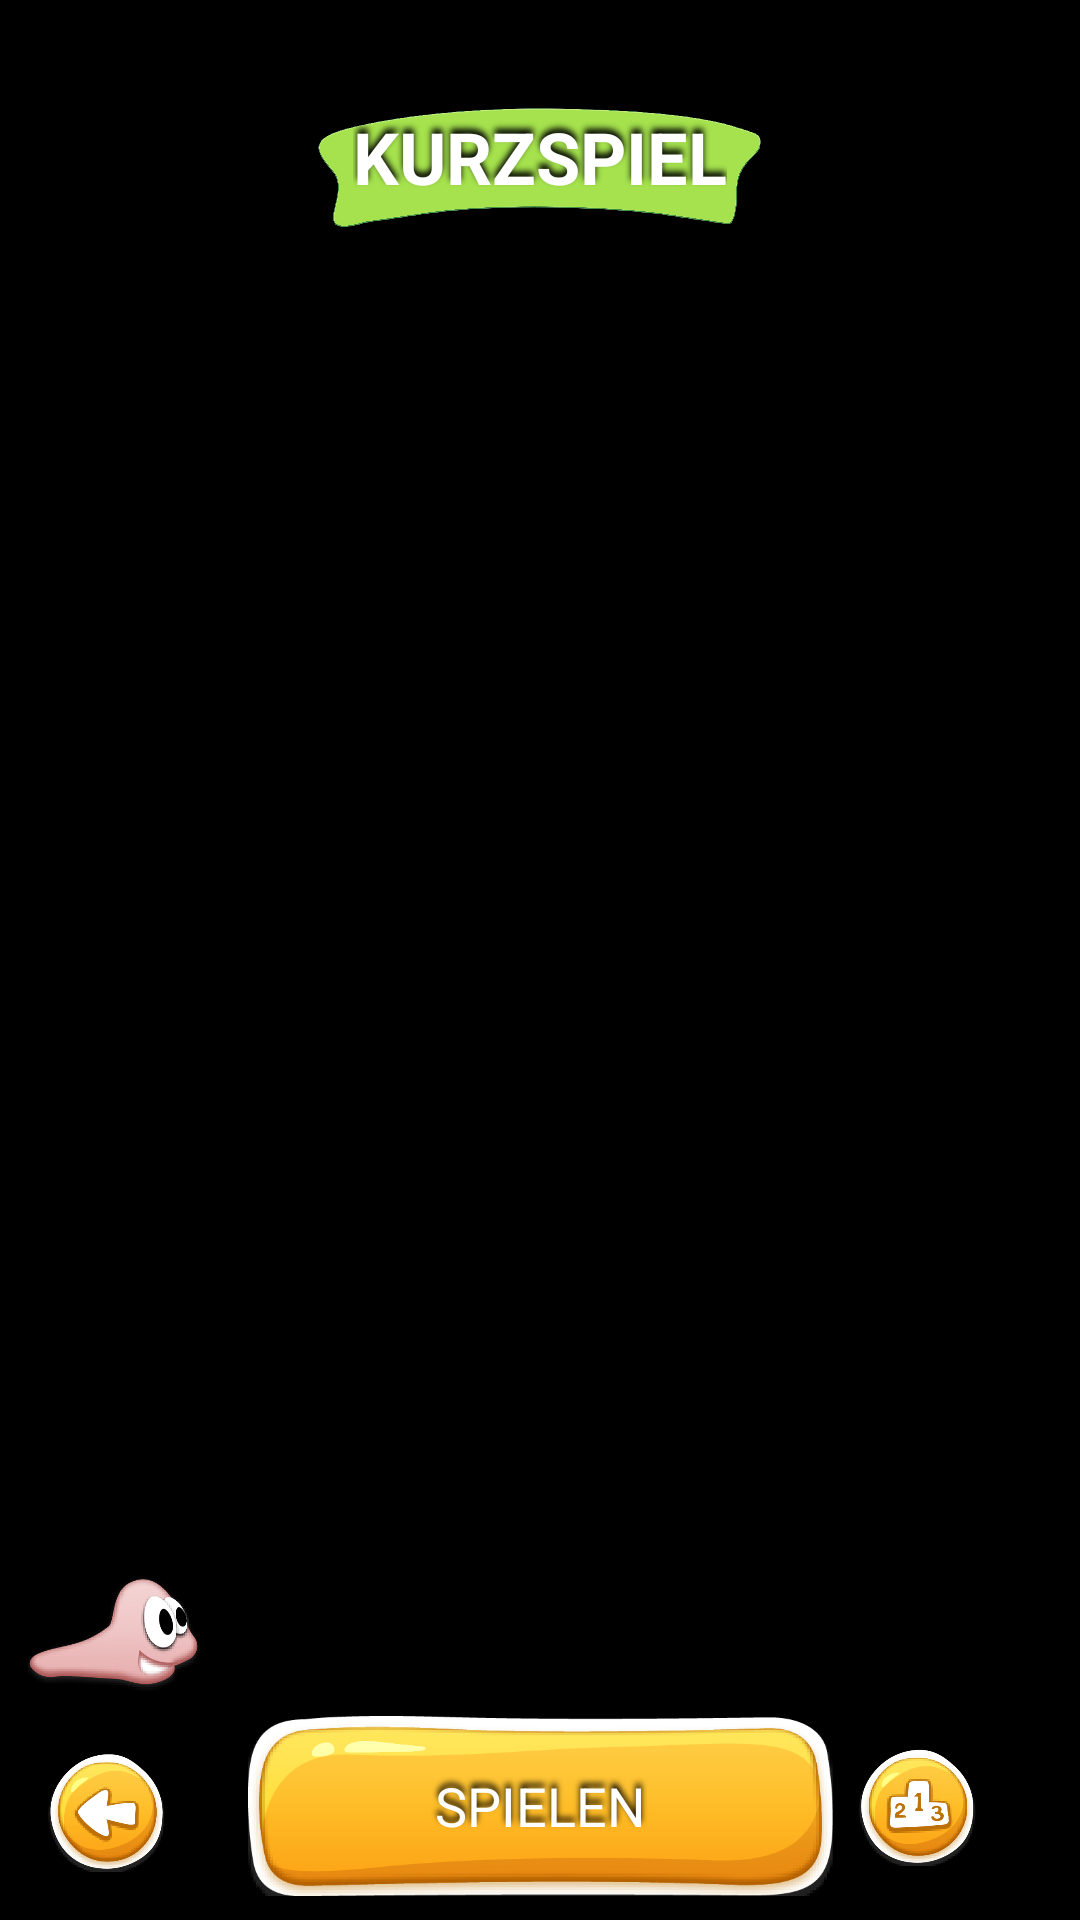

Icon bounding boxes for this 1080px×1920px phone screenshot, format (x1, y1, x2, y2):
worm: (29, 1579, 198, 1685)
